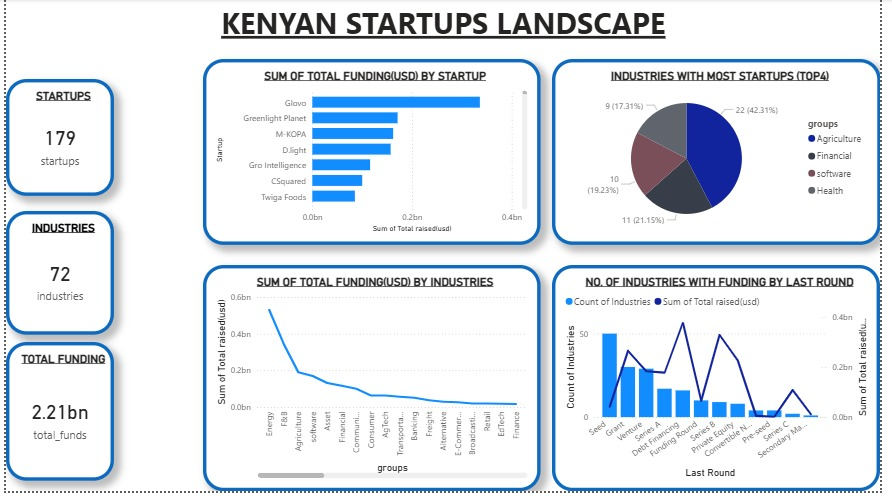

The page's visual inventory and layout, read from the dashboard file:
{"tool":"powerbi","page":{"name":"Page 1","canvas":[1280,720],"ordinal":0},"visuals":[{"type":"card","title":"STARTUPS","fields":{"Values":["Measures_Table.startups"]},"box":[0,117.1,158,171.2],"z":0},{"type":"card","title":"INDUSTRIES","fields":{"Values":["Measures_Table.industries"]},"box":[0,310.2,158,181.5],"z":1000},{"type":"clusteredBarChart","title":"SUM OF TOTAL FUNDING(USD) BY STARTUP","fields":{"Category":["startups.Startup"],"Y":["Sum(startups.Total raised(usd))"]},"box":[288.9,87.3,493.9,272.1],"z":2000},{"type":"lineChart","title":"SUM OF TOTAL FUNDING(USD) BY INDUSTRIES","fields":{"Category":["startups.groups"],"Y":["Sum(startups.Total raised(usd))"]},"box":[288.9,389.7,493.9,330.9],"z":3000},{"type":"pieChart","title":"INDUSTRIES WITH MOST STARTUPS (TOP4)","fields":{"Category":["startups.groups"],"Y":["CountNonNull(startups.Industries)"]},"box":[799,87.8,481.5,272.2],"z":4000},{"type":"lineStackedColumnComboChart","title":"NO. OF INDUSTRIES WITH FUNDING BY LAST ROUND","fields":{"Category":["startups.Last Round"],"Y":["CountNonNull(startups.Industries)"],"Y2":["Sum(startups.Total raised(usd))"]},"box":[799.6,389.7,480.4,330.9],"z":5000},{"type":"card","title":"TOTAL FUNDING","fields":{"Values":["Measures_Table.total_funds"]},"box":[0,502,158,203.4],"z":5001},{"type":"textbox","box":[0,0,1280,73.9],"z":5002}]}

Visuals, with their boxes in screenshot pixels (x1, y1, x2, y2), scaled from the page's 1280x720 canvas onto the 892x496 screenshot:
"STARTUPS" card: bbox=(0, 81, 110, 199)
"INDUSTRIES" card: bbox=(0, 214, 110, 339)
"SUM OF TOTAL FUNDING(USD) BY STARTUP" clusteredBarChart: bbox=(201, 60, 546, 248)
"SUM OF TOTAL FUNDING(USD) BY INDUSTRIES" lineChart: bbox=(201, 268, 546, 495)
"INDUSTRIES WITH MOST STARTUPS (TOP4)" pieChart: bbox=(557, 60, 891, 248)
"NO. OF INDUSTRIES WITH FUNDING BY LAST ROUND" lineStackedColumnComboChart: bbox=(557, 268, 891, 495)
"TOTAL FUNDING" card: bbox=(0, 346, 110, 486)
textbox: bbox=(0, 0, 891, 51)
